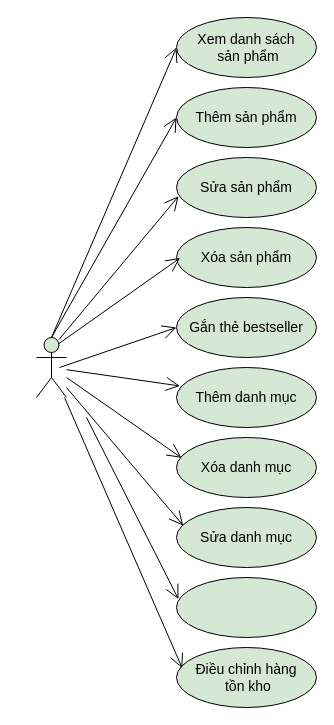
Some shapes in this 334 by 725 pixel diagram are drawn without their labels. The shapes that lost their labels are listed below. From the top down, each one's box as (x1, y1, x2, y2) in pixels, then its label:
(36, 336, 66, 398): Quản trị viên
(176, 576, 316, 638): Xem hàng tồn kho
